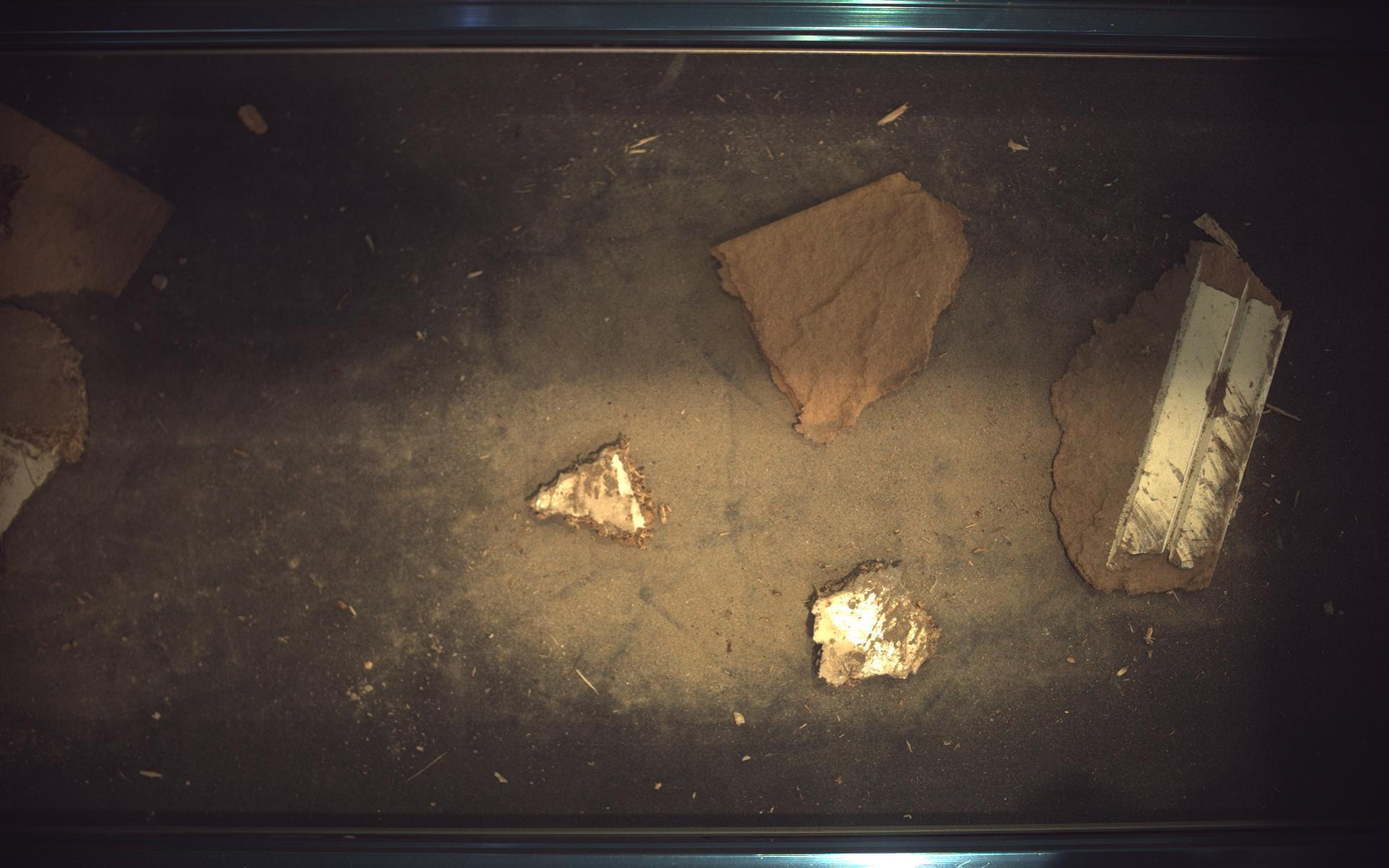wood: (1053, 215, 1293, 594), (713, 171, 972, 443), (1, 102, 171, 298), (1, 305, 87, 535), (528, 434, 670, 549), (812, 562, 943, 686)
